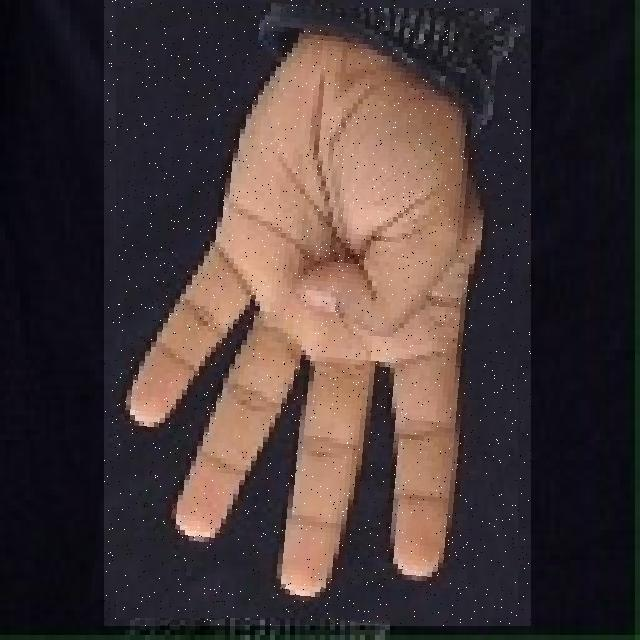Thanks: (104, 0, 531, 626)
